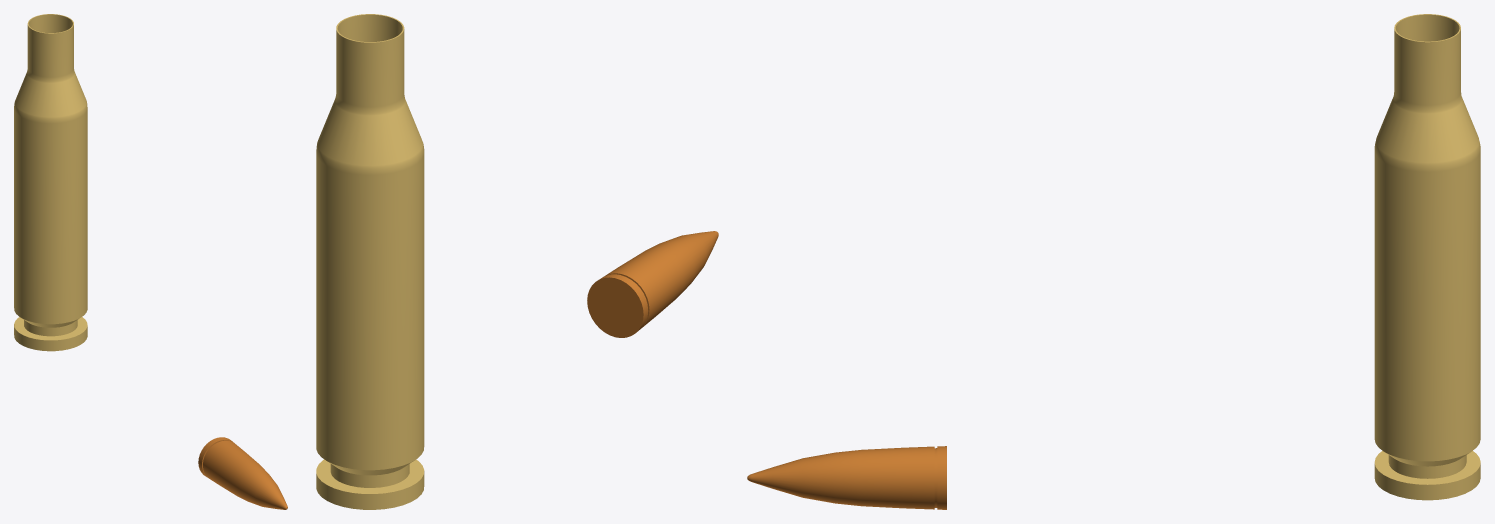
The model's file is MinigunBullet.fbx.
3 renders of one model, left to right at view 1: azimuth 30°, elevation 25°; view 2: azimuth 150°, elevation 25°; view 3: azimuth 270°, elevation 25°, orthographic. The views are drawn at different scales.
Parts seen in each view (by area): view 1: Casing, Bullet; view 2: Casing, Bullet; view 3: Casing, Bullet.
Boxes of the visible parts, x1,y1,x2,y2 form: Casing: [14, 14, 87, 351]; Bullet: [198, 437, 287, 509]; Casing: [316, 14, 424, 509]; Bullet: [587, 231, 718, 337]; Casing: [1374, 14, 1480, 500]; Bullet: [747, 446, 946, 509].
Bounding box in the file's own units: 0.3225 × 1.61 × 2.23.
